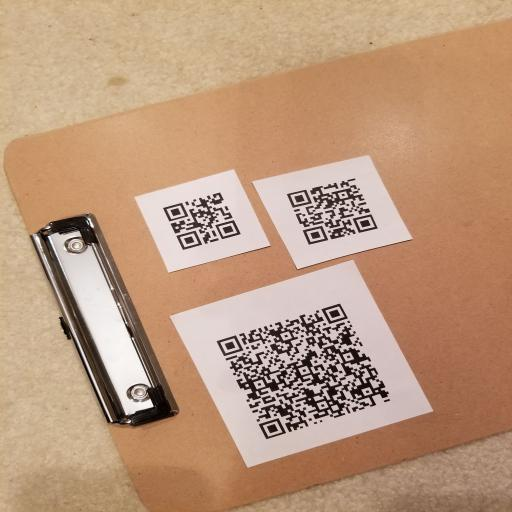QR_CODE: (203, 287, 406, 444), (278, 170, 394, 252), (151, 176, 247, 254)
